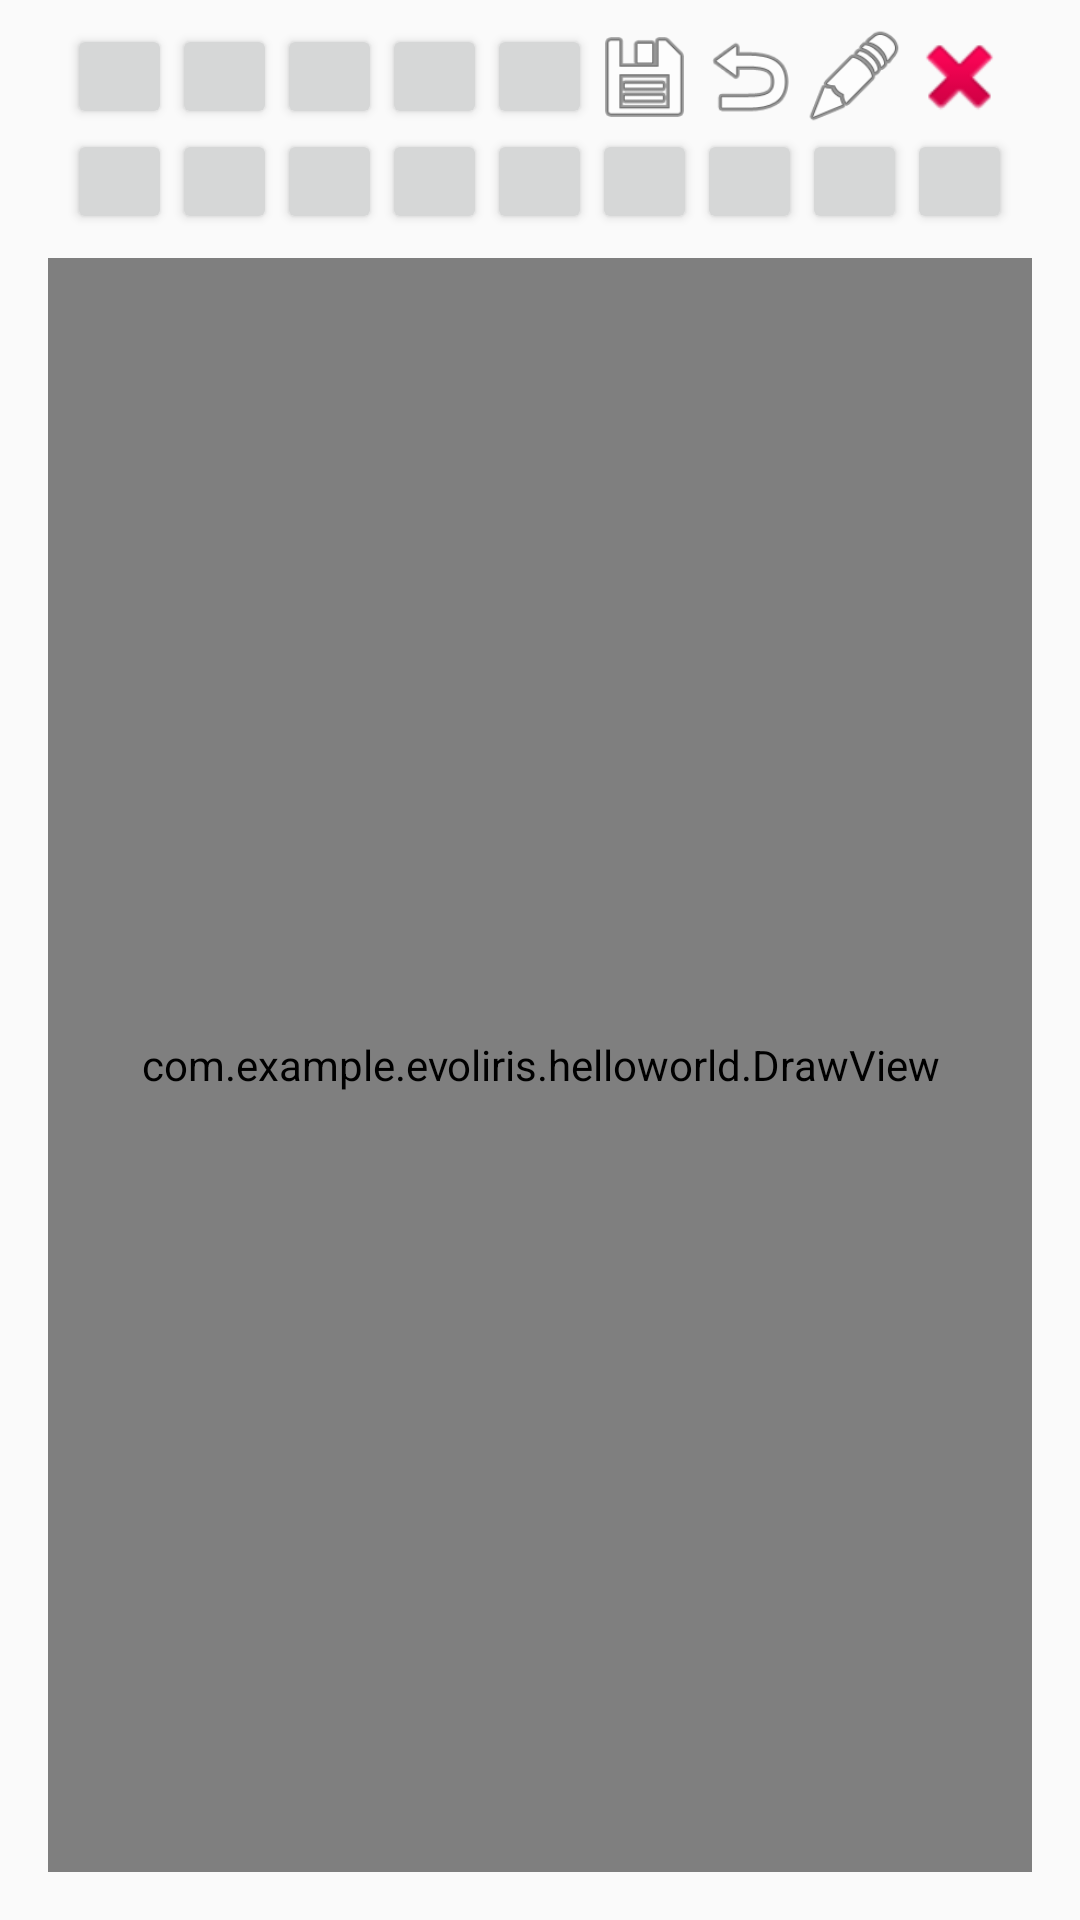

Icons on this 1080w x 1920h Android screen, each with the point to tap as (x=x, y=y):
delete: (x=959, y=77)
edit: (x=854, y=75)
revert: (x=751, y=77)
save: (x=644, y=77)
